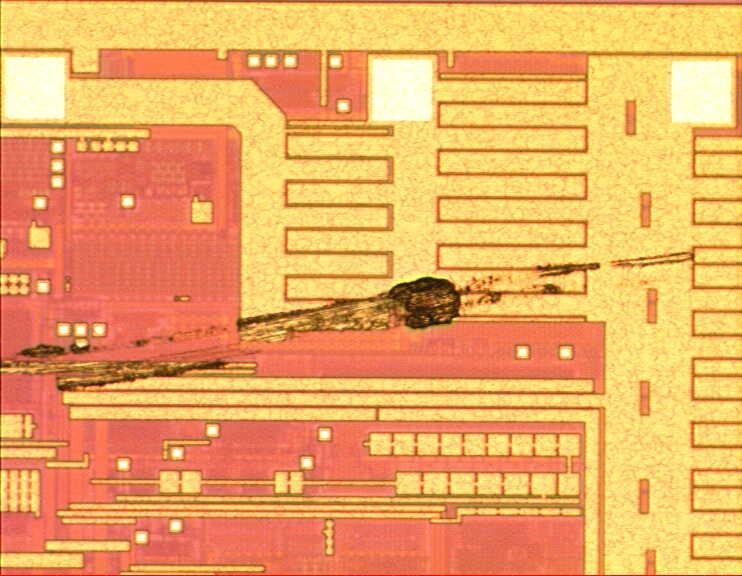SCRATCH: (1, 249, 702, 399)
